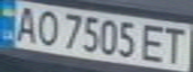0: (96, 17, 121, 56)
5: (115, 18, 142, 60), (78, 14, 103, 53)
7: (57, 11, 84, 51)
A: (9, 2, 42, 43)
E: (139, 21, 169, 64)
O: (30, 8, 63, 47)
T: (160, 25, 193, 65)
